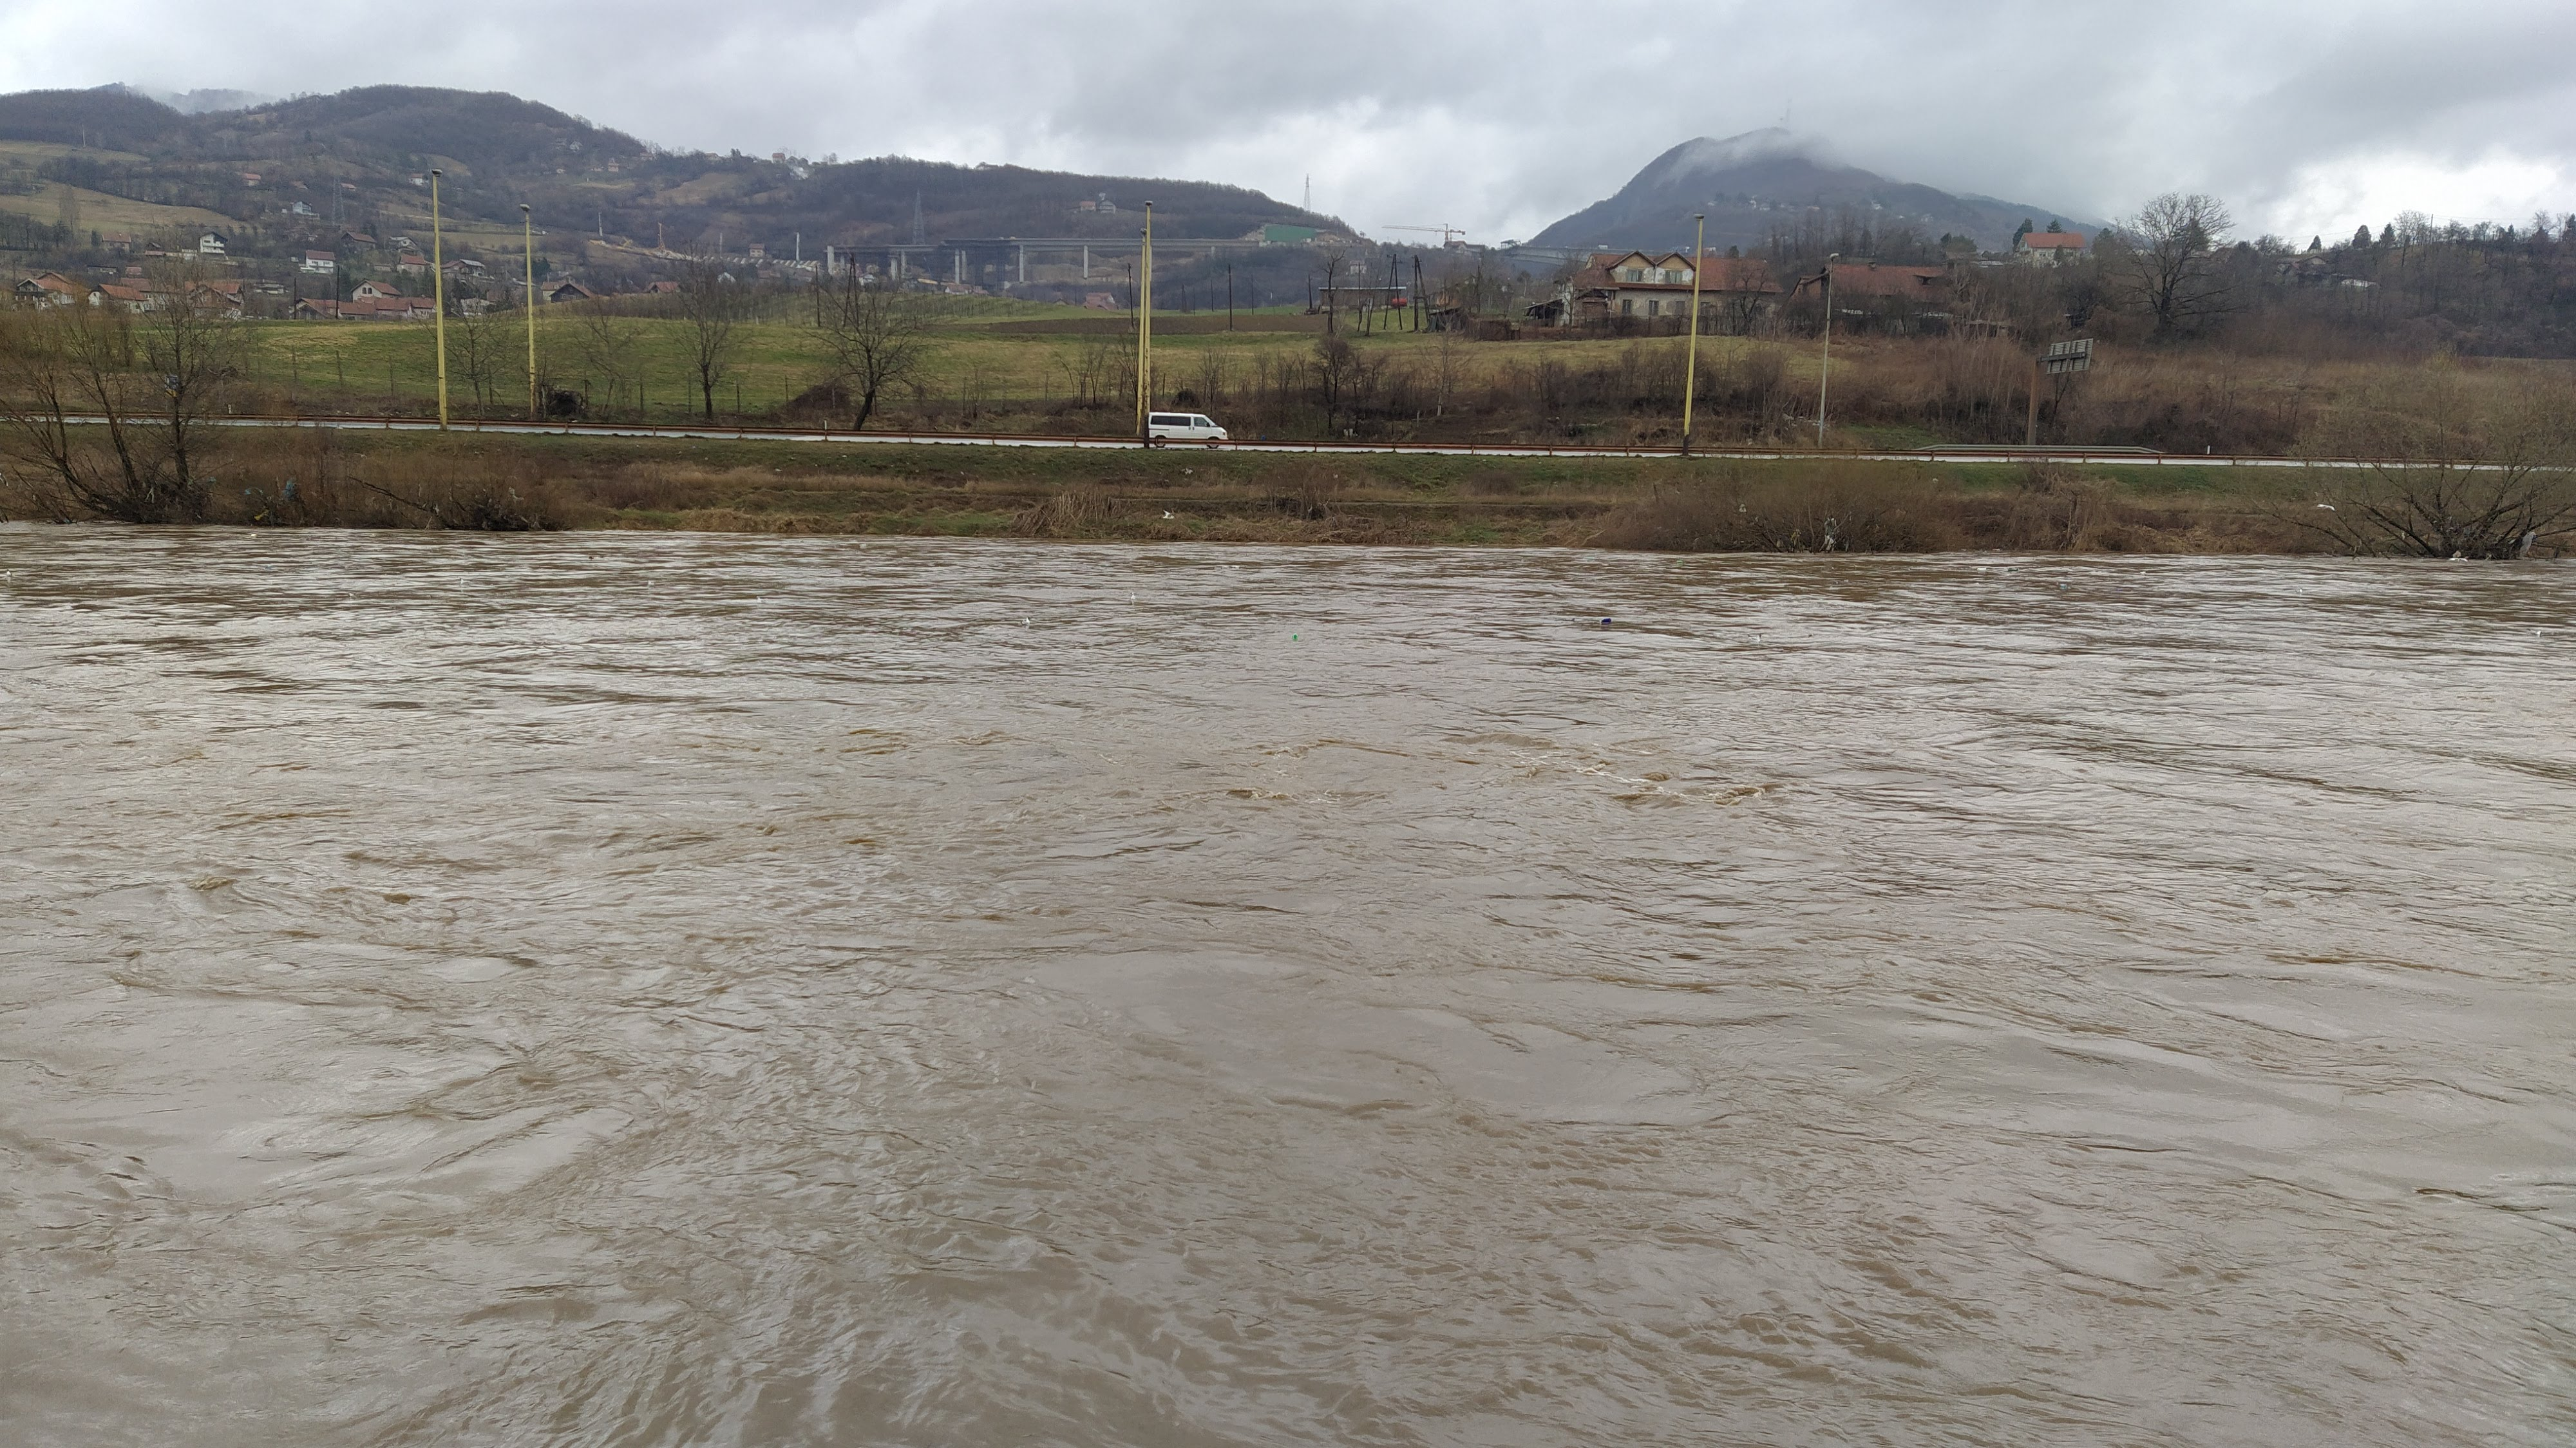Plastic Bottle: (1601, 618, 1612, 623), (1292, 634, 1297, 639), (1677, 559, 1683, 563), (2008, 568, 2019, 570), (1978, 568, 1987, 570), (2059, 584, 2066, 586)
